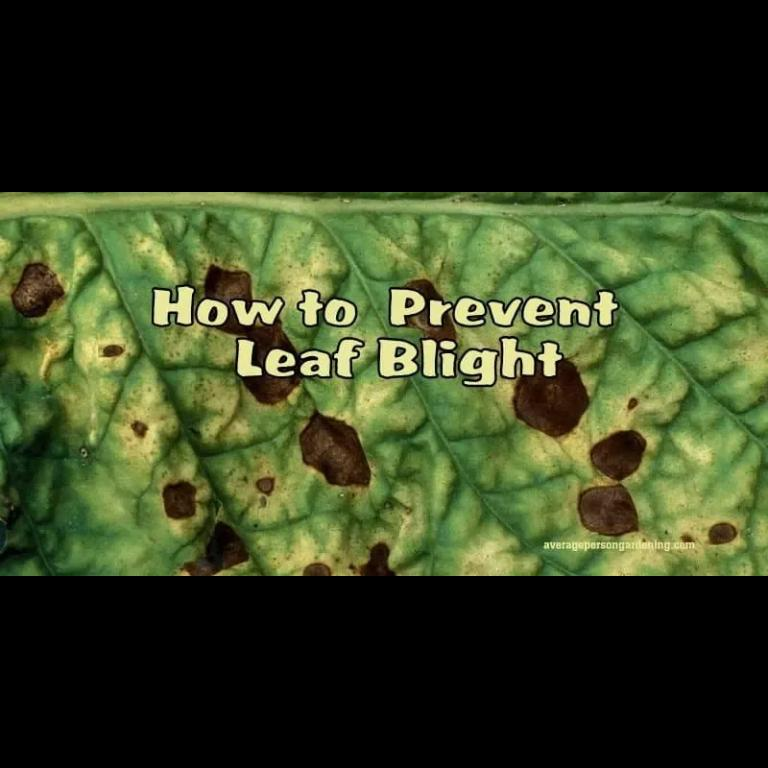blight: (157, 432, 253, 576)
